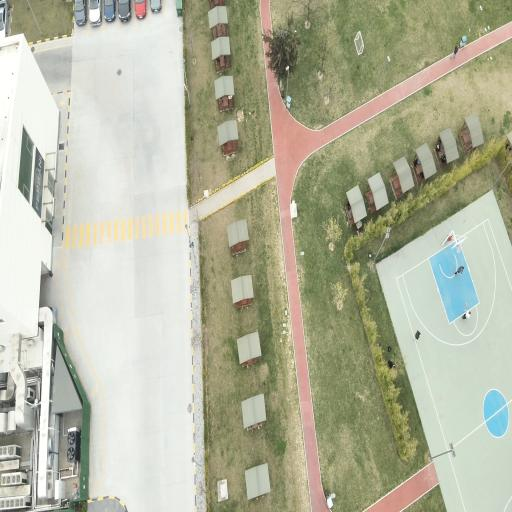car: (89, 0, 101, 25), (75, 0, 87, 25), (0, 0, 8, 37), (118, 0, 131, 21), (104, 0, 115, 21), (135, 0, 146, 18), (150, 0, 162, 12)
person: (454, 266, 464, 275), (451, 46, 458, 58), (436, 140, 441, 152), (463, 311, 470, 319), (415, 330, 420, 341), (446, 235, 453, 242), (388, 360, 394, 368), (441, 155, 446, 164), (415, 158, 420, 166), (347, 202, 351, 211), (388, 347, 391, 352)
